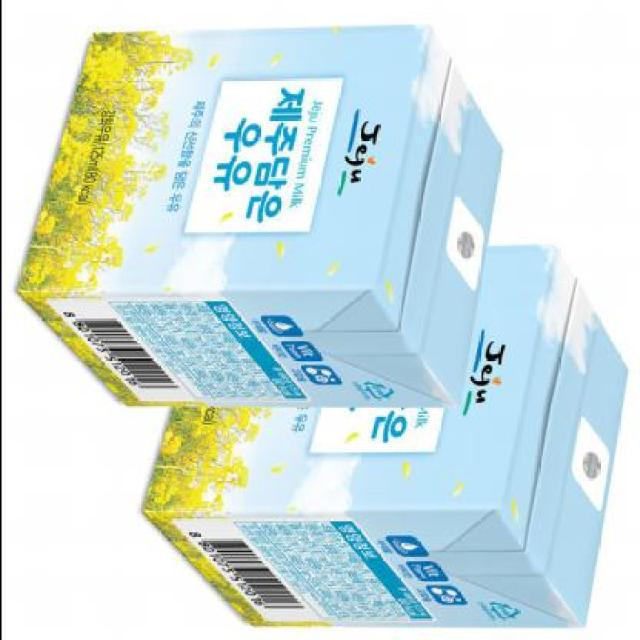tetra: (1, 0, 524, 422)
